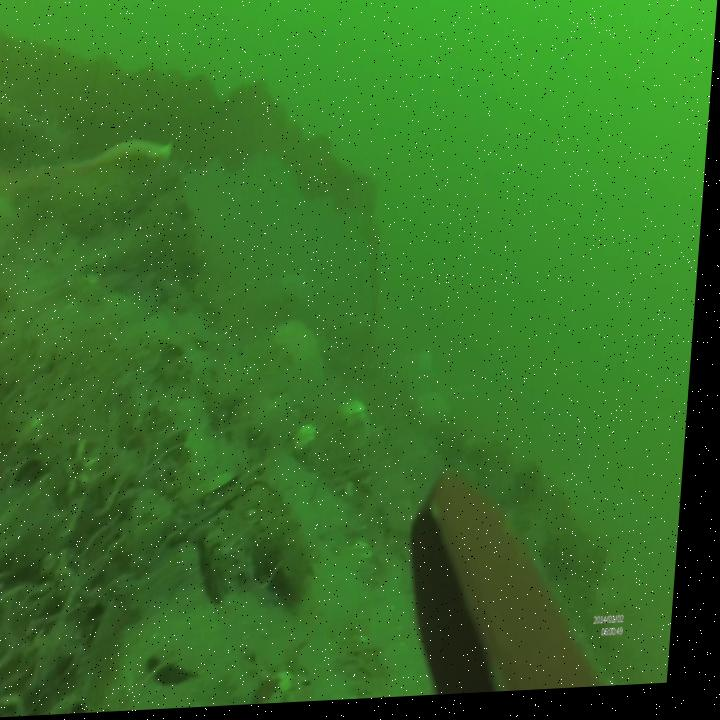scallop: (424, 393, 458, 438), (297, 424, 325, 459), (347, 402, 373, 435)
starfish: (276, 321, 332, 383)
